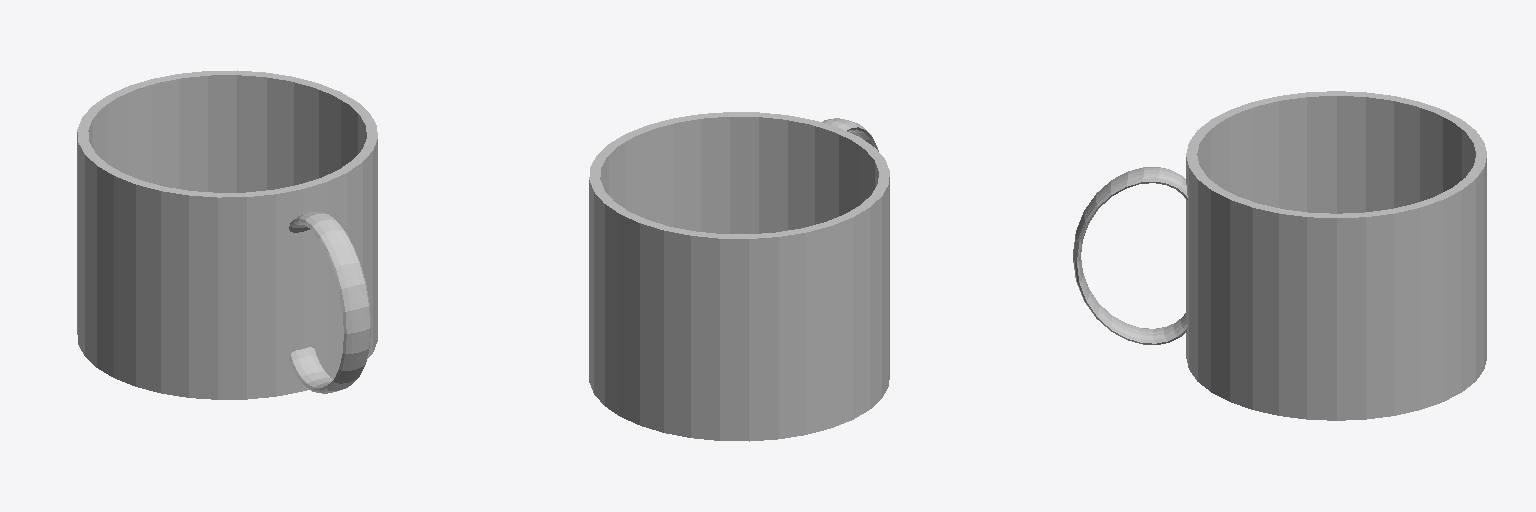
File: cup.obj
3 views of the same model, side by side, from view 1: azimuth 30°, elevation 25°; view 2: azimuth 150°, elevation 25°; view 3: azimuth 270°, elevation 25° (orthographic).
Parts seen in each view (by area): view 1: Cylinder, Cylinder.001, Torus; view 2: Cylinder, Cylinder.001, Torus; view 3: Cylinder, Cylinder.001, Torus.
Part boxes in pixels (left/top/right/bottom): Cylinder: left=77, top=70, right=377, bottom=399; Cylinder.001: left=77, top=71, right=377, bottom=399; Torus: left=289, top=212, right=370, bottom=393; Cylinder: left=589, top=112, right=889, bottom=441; Cylinder.001: left=589, top=112, right=889, bottom=440; Torus: left=801, top=118, right=878, bottom=163; Cylinder: left=1186, top=91, right=1486, bottom=420; Cylinder.001: left=1186, top=91, right=1486, bottom=420; Torus: left=1073, top=167, right=1187, bottom=344.
Size of the model in its own units: 2.16 by 1.6 by 2.97.